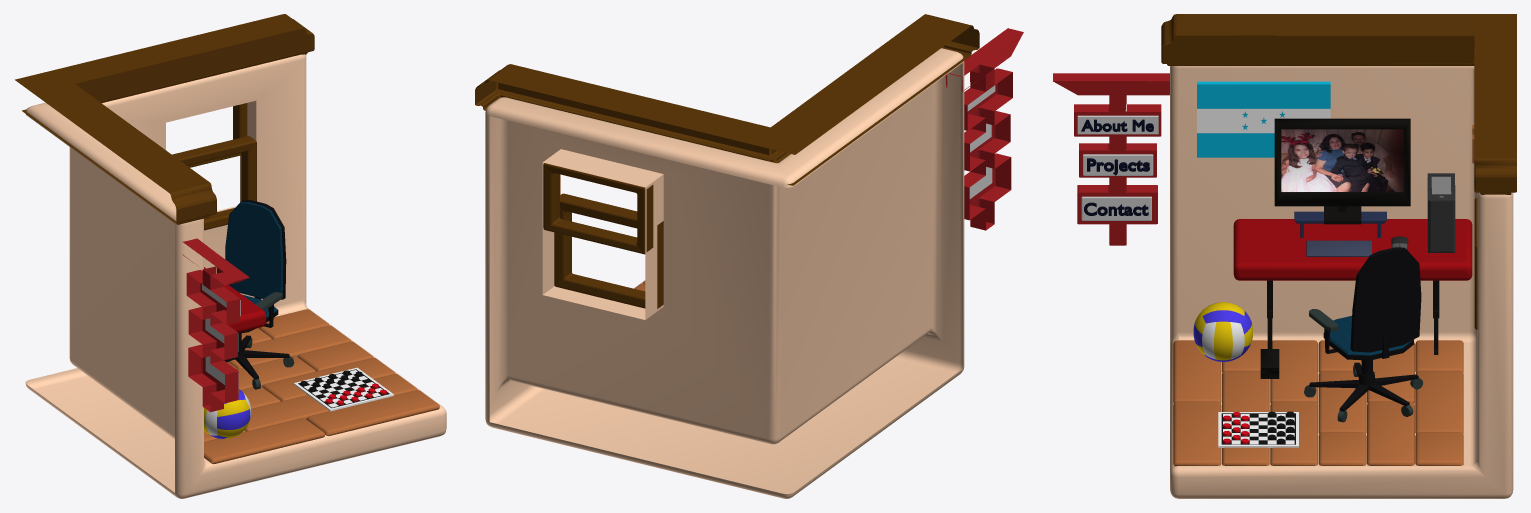
The model's file is Room_Portfoliov2.glb.
The picture shows the model from 3 angles, left to right: view 1: azimuth 30°, elevation 25°; view 2: azimuth 150°, elevation 25°; view 3: azimuth 270°, elevation 25°; orthographic projection. The views are drawn at different scales.
Parts seen in each view (by area): view 1: room, Plane, floor, Sign, Cube.014_1, Checkers_Raycaster_Up, window1, volleyball_Raycaster_Up, deskt top, window2; view 2: room, Plane, Sign, window1, window2; view 3: room, floor, Plane, Computer_Raycaster, deskt top, Cube.014_1, Flag, Sign, Checkers_Raycaster_Up, volleyball_Raycaster_Up, PC_0, Contact_Raycaster_Hover (+7 smaller).
Part boxes in pixels (<box>): room: <box>25,54,446,498</box>; Plane: <box>15,14,314,224</box>; floor: <box>204,309,439,464</box>; Sign: <box>182,238,250,412</box>; Cube.014_1: <box>224,200,294,389</box>; Checkers_Raycaster_Up: <box>293,367,393,411</box>; window1: <box>172,136,256,230</box>; volleyball_Raycaster_Up: <box>204,389,251,438</box>; deskt top: <box>204,267,266,332</box>; window2: <box>188,103,247,167</box>; room: <box>485,48,964,498</box>; Plane: <box>475,14,979,185</box>; Sign: <box>945,28,1023,230</box>; window1: <box>554,193,663,308</box>; window2: <box>543,163,653,254</box>; room: <box>1170,66,1513,498</box>; floor: <box>1173,340,1463,466</box>; Plane: <box>1161,14,1516,194</box>; Computer_Raycaster: <box>1274,118,1410,224</box>; deskt top: <box>1233,219,1472,280</box>; Cube.014_1: <box>1304,247,1422,422</box>; Flag: <box>1197,81,1330,157</box>; Sign: <box>1053,73,1169,245</box>; Checkers_Raycaster_Up: <box>1218,411,1298,447</box>; volleyball_Raycaster_Up: <box>1193,302,1252,361</box>; PC_0: <box>1427,173,1455,252</box>; Contact_Raycaster_Hover: <box>1081,196,1151,220</box>.
Size of the model in its own units: 6.23 by 6.54 by 8.12.
Materials: 30 (2 with a texture image).
